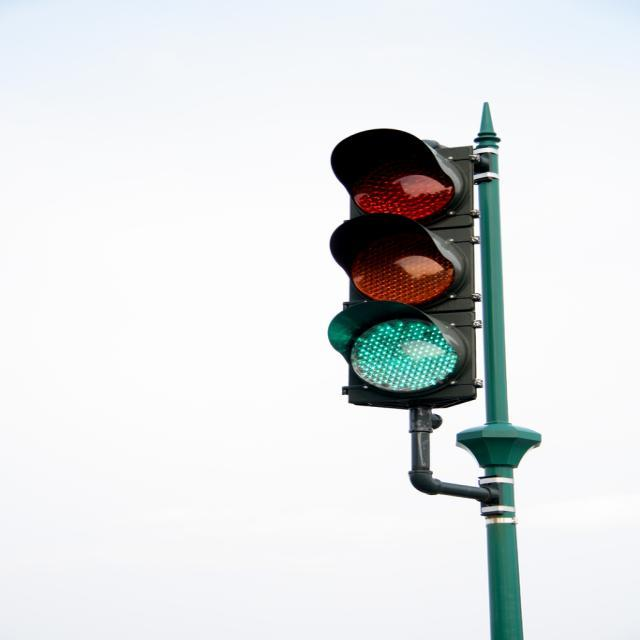traffic light: (329, 129, 480, 409)
